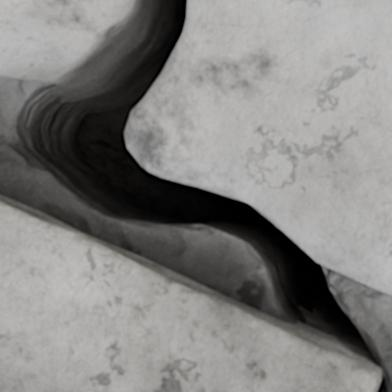brick: (0, 195, 380, 391)
broken_brick: (125, 0, 391, 295), (0, 0, 129, 82)
crack: (2, 0, 389, 391)
